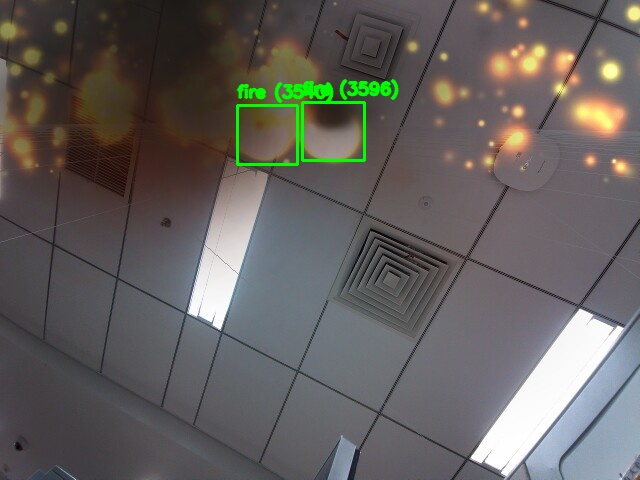fire: (302, 102, 364, 160), (237, 105, 297, 164)
